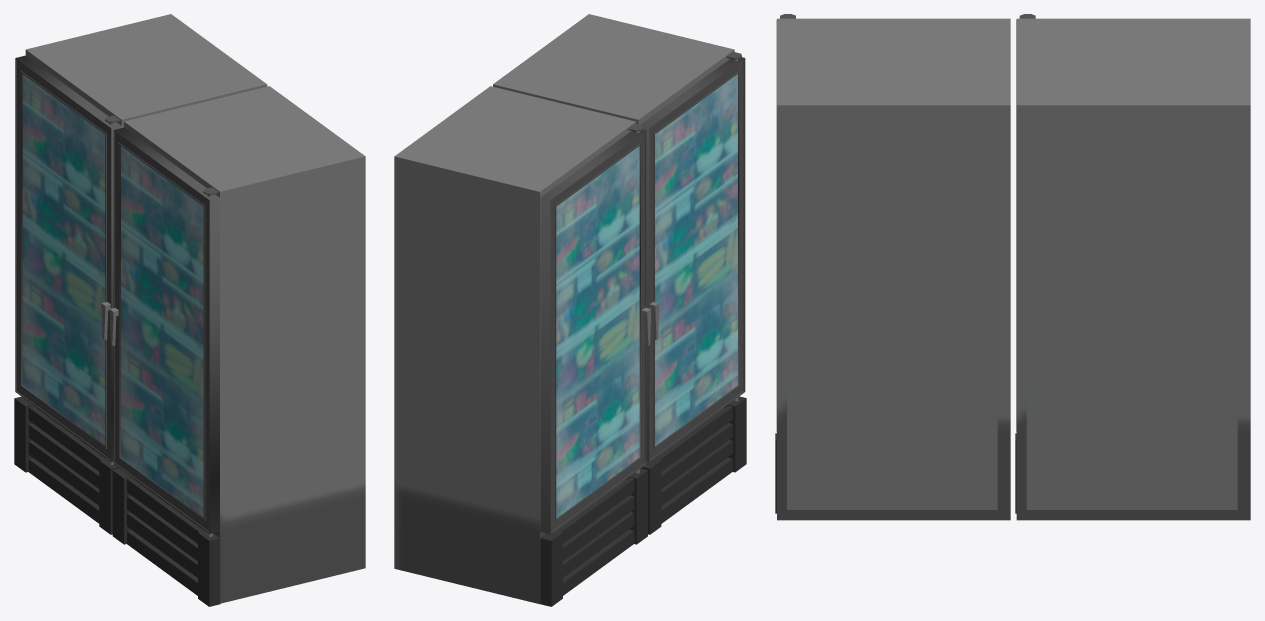
Rendered from Nevera.obj.
3 views of the same model, side by side, from view 1: azimuth 30°, elevation 25°; view 2: azimuth 150°, elevation 25°; view 3: azimuth 270°, elevation 25° (orthographic). The views are drawn at different scales.
Visible parts, largest first — view 1: Nevera_Nevera.001; view 2: Nevera_Nevera.001; view 3: Nevera_Nevera.001.
Boxes of the visible parts, x1,y1,x2,y2 form: Nevera_Nevera.001: (14, 14, 365, 606); Nevera_Nevera.001: (394, 14, 746, 606); Nevera_Nevera.001: (775, 14, 1250, 520).
Bounding box in the file's own units: 0.9419 × 2.3 × 1.97.
